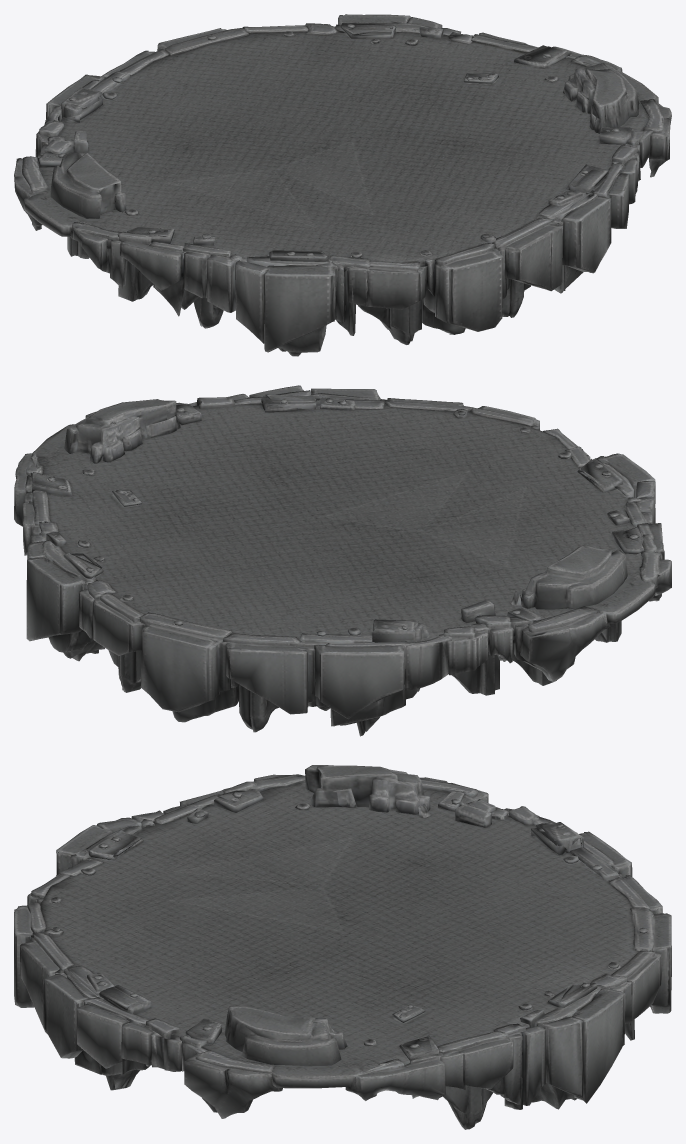
File: iron-island-1.glb
3 renders of one model, top to bottom at view 1: azimuth 30°, elevation 25°; view 2: azimuth 150°, elevation 25°; view 3: azimuth 270°, elevation 25°, orthographic. The views are drawn at different scales.
Bounding box in the file's own units: 0.9546 × 0.1982 × 0.8623.
1 material, 1 textured.
